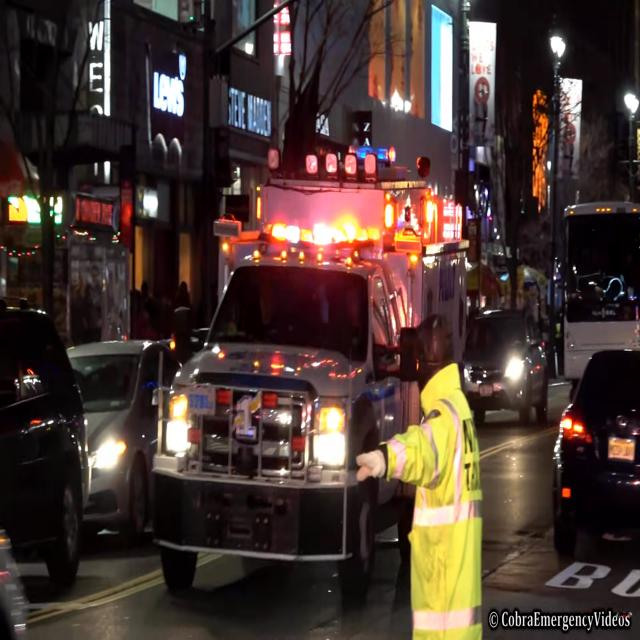emergency-vehicles: (132, 166, 503, 629)
